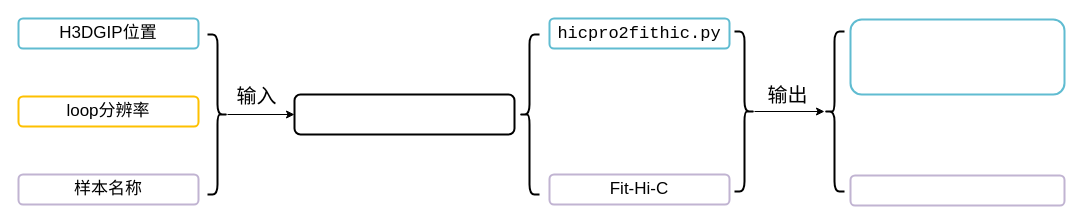
Image size: 1082x223. Some labels were removed from this diagram. The shapes that lost their labels are listed below. From the top down, each one's centre as x and y in pixels, then its label:
At point 957,56: "将HiC-Pro输出文件转换为Fit-Hi-C可识别文件的命令".
At point 404,114: "Preparing_FitHiC_file".
At point 957,190: "Fit-Hi-C 可执行命令".
